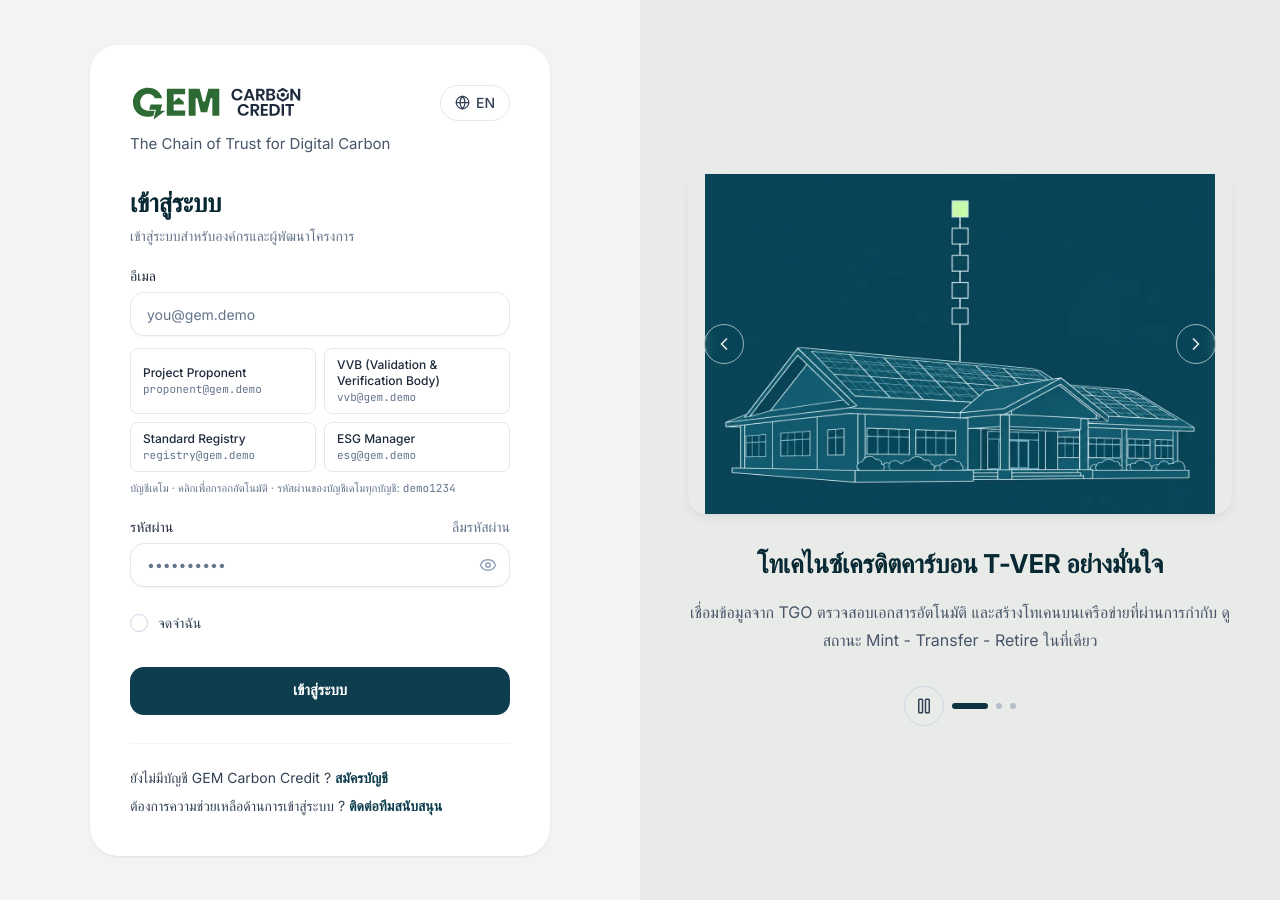
Test: Login carousel accessibility › pauses automatic advance and resumes only when Play is pressed
Click the button named "Pause carousel" at (924, 706), box 904,686 -> 944,726
Wait 12000 ms
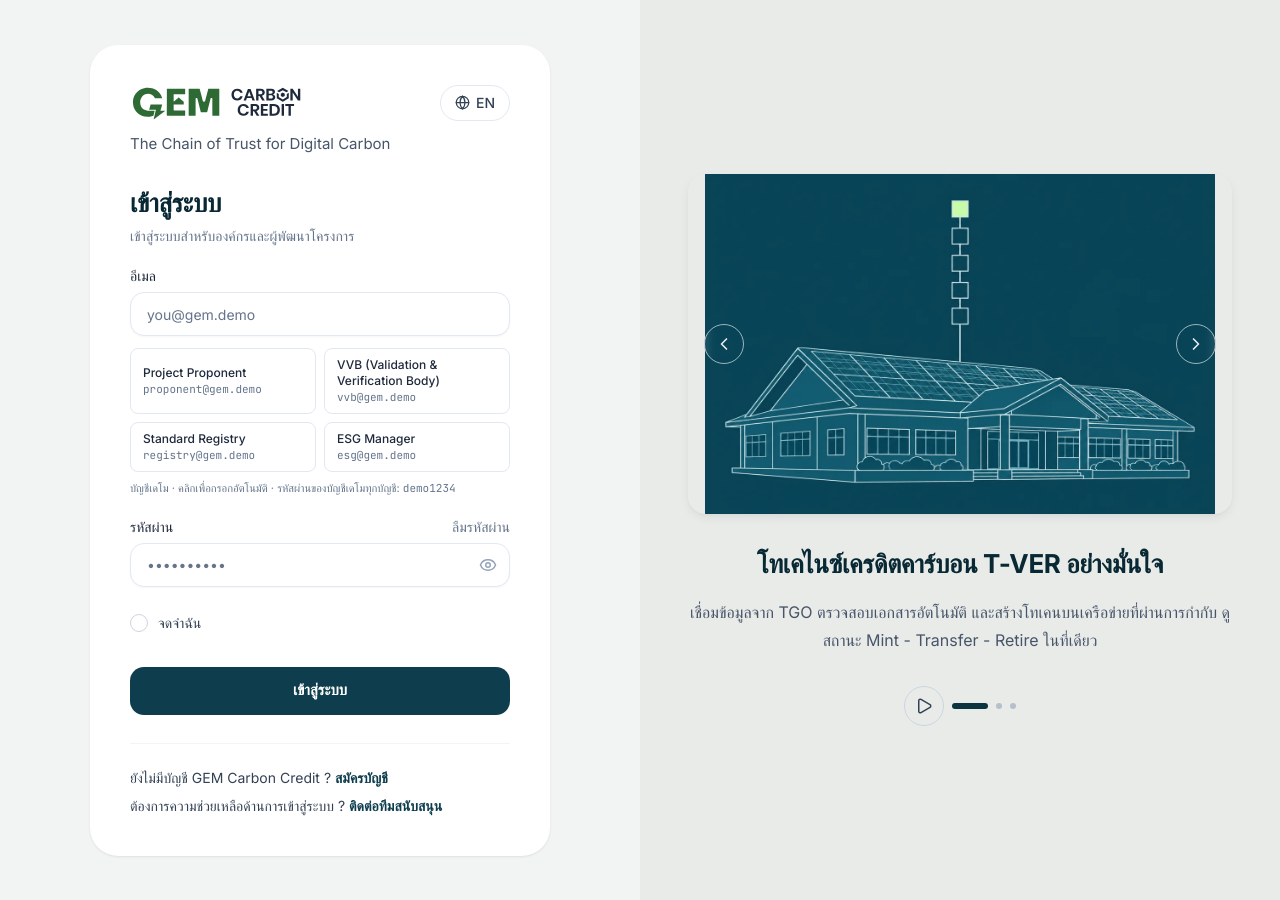
Check: the heading "โทเคไนซ์เครดิตคาร์บอน T-VER อย่างมั่นใจ" is shown, box 757,548 -> 1163,579
Check: the button named "Play carousel" is pressed
Click the button named "Play carousel" at (924, 706), box 904,686 -> 944,726
Wait 6000 ms
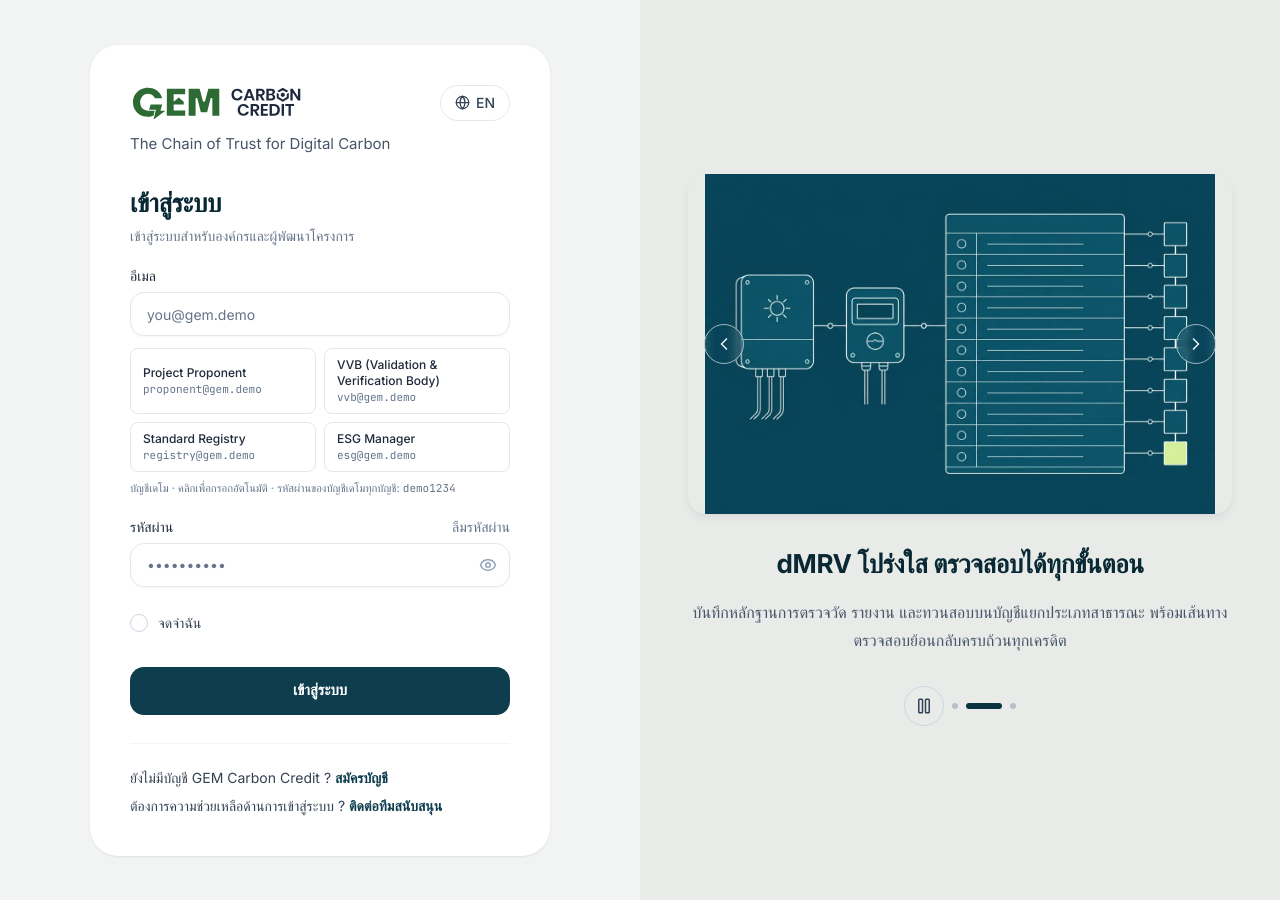
Check: the heading "โทเคไนซ์เครดิตคาร์บอน T-VER อย่างมั่นใจ" is gone
